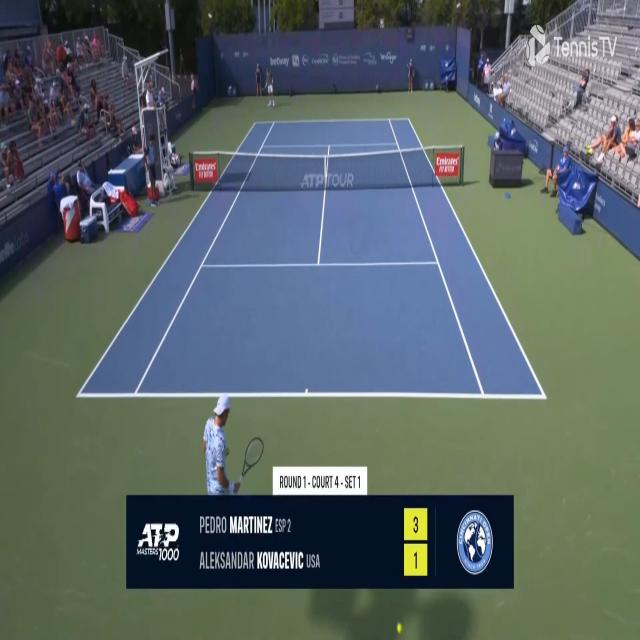tennis-player: (202, 389, 243, 495)
